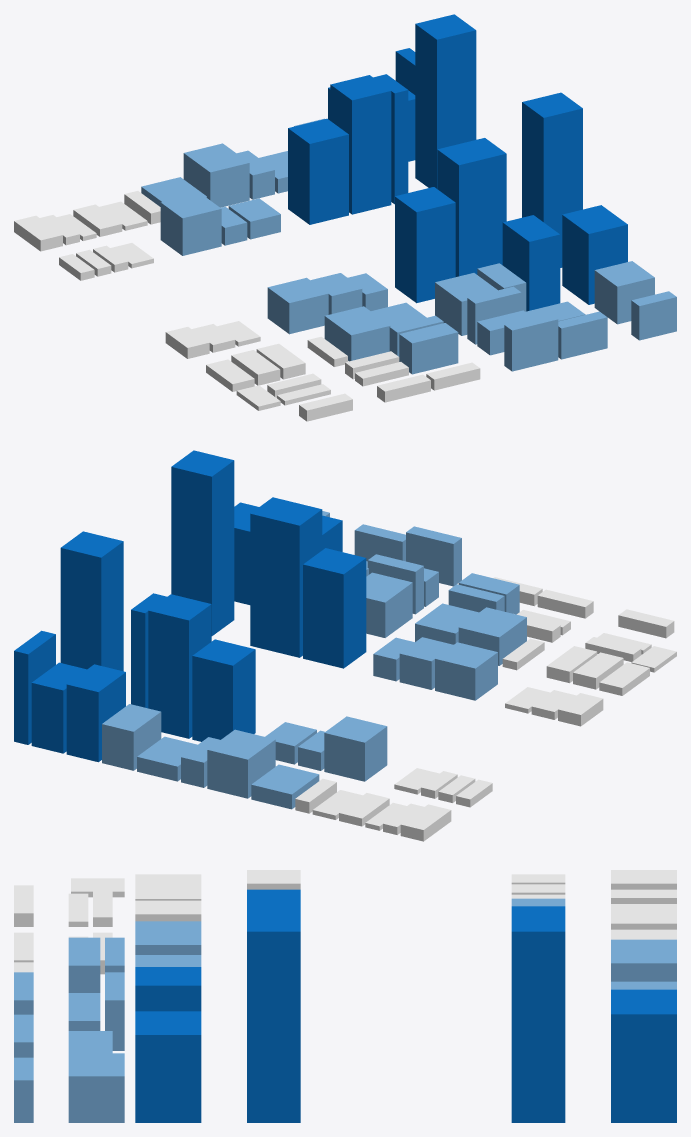
File: 03_Residencial.glb
3 views of the same model, one above another, from view 1: azimuth 30°, elevation 25°; view 2: azimuth 150°, elevation 25°; view 3: azimuth 270°, elevation 25° (orthographic). The views are drawn at different scales.
Parts seen in each view (by area): view 1: Datos_R_Alta_012, Datos_R_Alta_003, Datos_R_Alta_002, Datos_R_Alta_010, Datos_R_Alta_001, Datos_R_Alta_009, Datos_R_Alta_005, Datos_R_Alta_004, Datos_R_Media_009, Datos_R_Media_013, Datos_R_Media_001, Datos_R_Media_004 (+41 smaller); view 2: Datos_R_Alta_003, Datos_R_Alta_002, Datos_R_Alta_012, Datos_R_Alta_001, Datos_R_Alta_010, Datos_R_Alta_009, Datos_R_Alta_006, Datos_R_Media_009, Datos_R_Media_013, Datos_R_Alta_007, Datos_R_Media_001, Datos_R_Media_012 (+37 smaller); view 3: Datos_R_Alta_012, Datos_R_Alta_003, Datos_R_Alta_008, Datos_R_Alta_005, Datos_R_Media_022, Datos_R_Alta_004, Datos_R_Media_009, Datos_R_Media_004, Datos_R_Media_019, Datos_R_Baja_006, Datos_R_Media_018, Datos_R_Baja_008 (+25 smaller).
Boxes of the visible parts, <box> form: Datos_R_Alta_012: <box>415,14,476,188</box>; Datos_R_Alta_003: <box>522,92,582,267</box>; Datos_R_Alta_002: <box>437,138,506,276</box>; Datos_R_Alta_010: <box>330,75,391,214</box>; Datos_R_Alta_001: <box>395,187,455,303</box>; Datos_R_Alta_009: <box>288,118,348,224</box>; Datos_R_Alta_005: <box>562,205,627,304</box>; Datos_R_Alta_004: <box>502,215,560,311</box>; Datos_R_Media_009: <box>183,143,249,207</box>; Datos_R_Media_013: <box>160,193,221,255</box>; Datos_R_Media_001: <box>267,277,328,334</box>; Datos_R_Media_004: <box>324,306,390,361</box>; Datos_R_Alta_003: <box>171,450,234,635</box>; Datos_R_Alta_002: <box>250,497,322,657</box>; Datos_R_Alta_012: <box>60,531,123,671</box>; Datos_R_Alta_001: <box>303,548,366,668</box>; Datos_R_Alta_010: <box>148,594,211,738</box>; Datos_R_Alta_009: <box>192,639,255,741</box>; Datos_R_Alta_006: <box>66,664,125,762</box>; Datos_R_Media_009: <box>207,729,275,798</box>; Datos_R_Media_013: <box>324,716,387,781</box>; Datos_R_Alta_007: <box>31,662,86,753</box>; Datos_R_Media_001: <box>435,642,497,700</box>; Datos_R_Media_012: <box>102,704,161,770</box>; Datos_R_Alta_012: <box>511,908,565,1122</box>; Datos_R_Alta_003: <box>247,908,300,1122</box>; Datos_R_Alta_008: <box>611,1006,676,1122</box>; Datos_R_Alta_005: <box>135,1011,201,1122</box>; Datos_R_Media_022: <box>68,1053,124,1122</box>; Datos_R_Alta_004: <box>135,967,201,1011</box>; Datos_R_Media_009: <box>611,939,676,981</box>; Datos_R_Media_004: <box>135,921,201,954</box>; Datos_R_Media_019: <box>68,937,100,992</box>; Datos_R_Baja_006: <box>135,900,201,921</box>; Datos_R_Media_018: <box>105,972,124,1050</box>; Datos_R_Baja_008: <box>611,870,676,889</box>.
Bounding box in the file's own units: 373 × 139 × 437.
